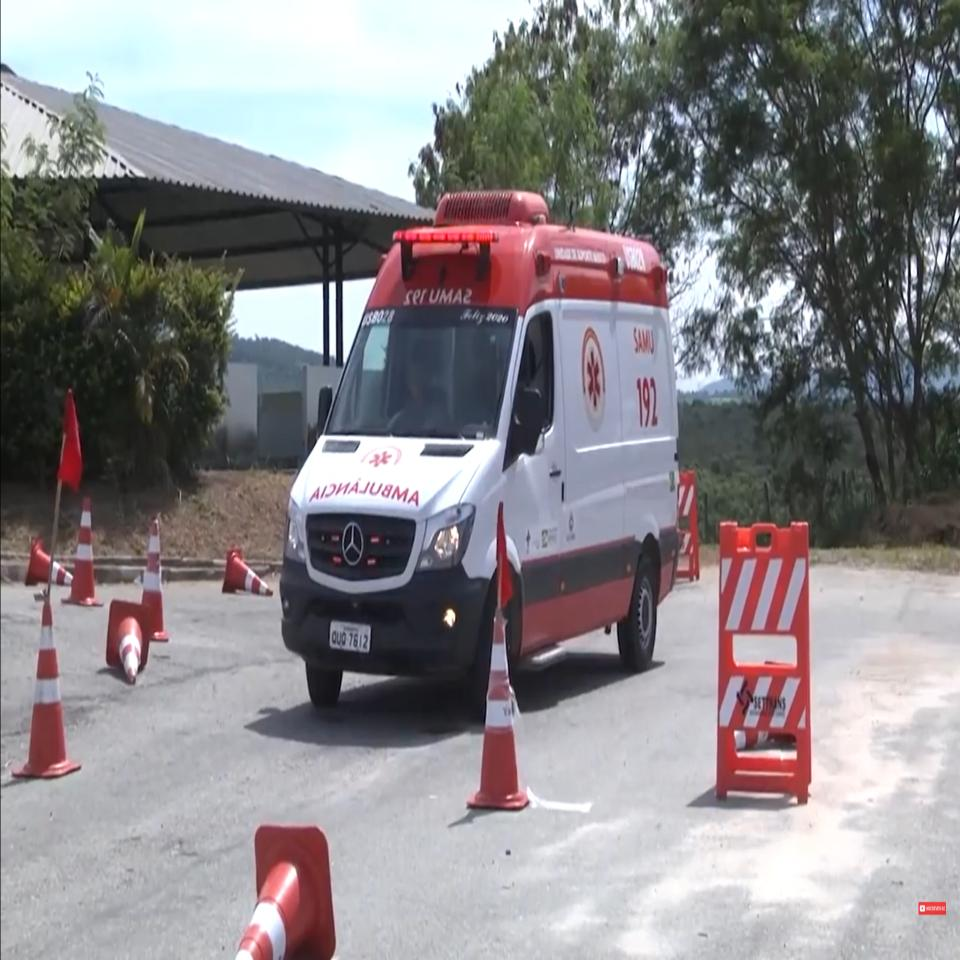bombeiro: (279, 190, 680, 714)
